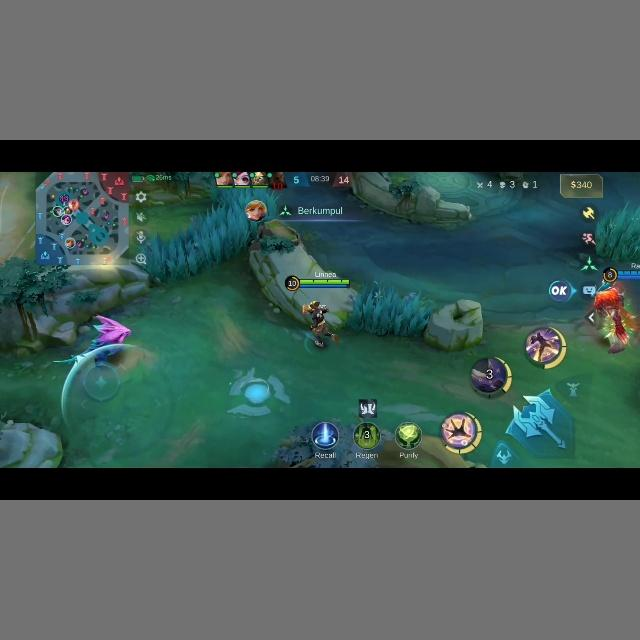hp_self: (283, 275, 351, 291), (601, 267, 640, 282)
